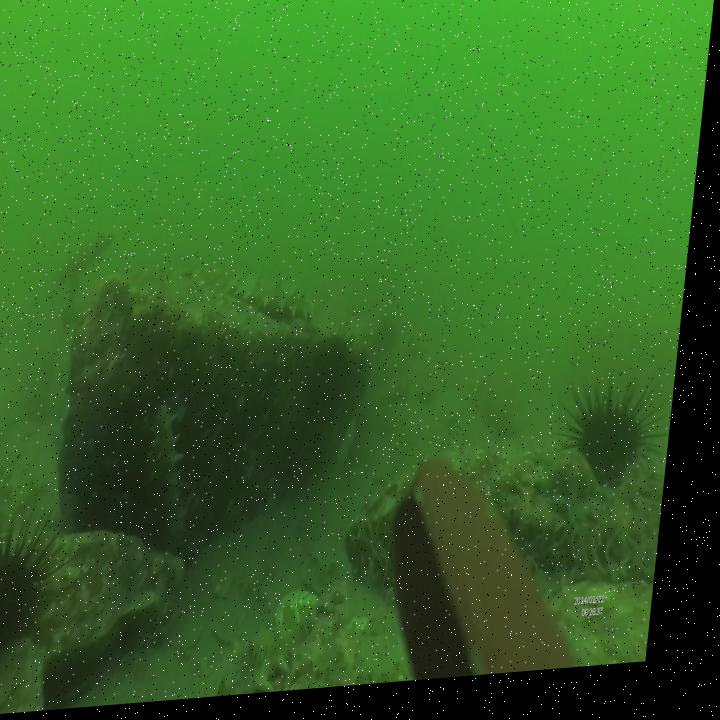echinus: (559, 383, 685, 536), (0, 499, 90, 702), (315, 327, 369, 426)
holothurian: (149, 403, 211, 550), (206, 631, 312, 703), (229, 265, 327, 335)
